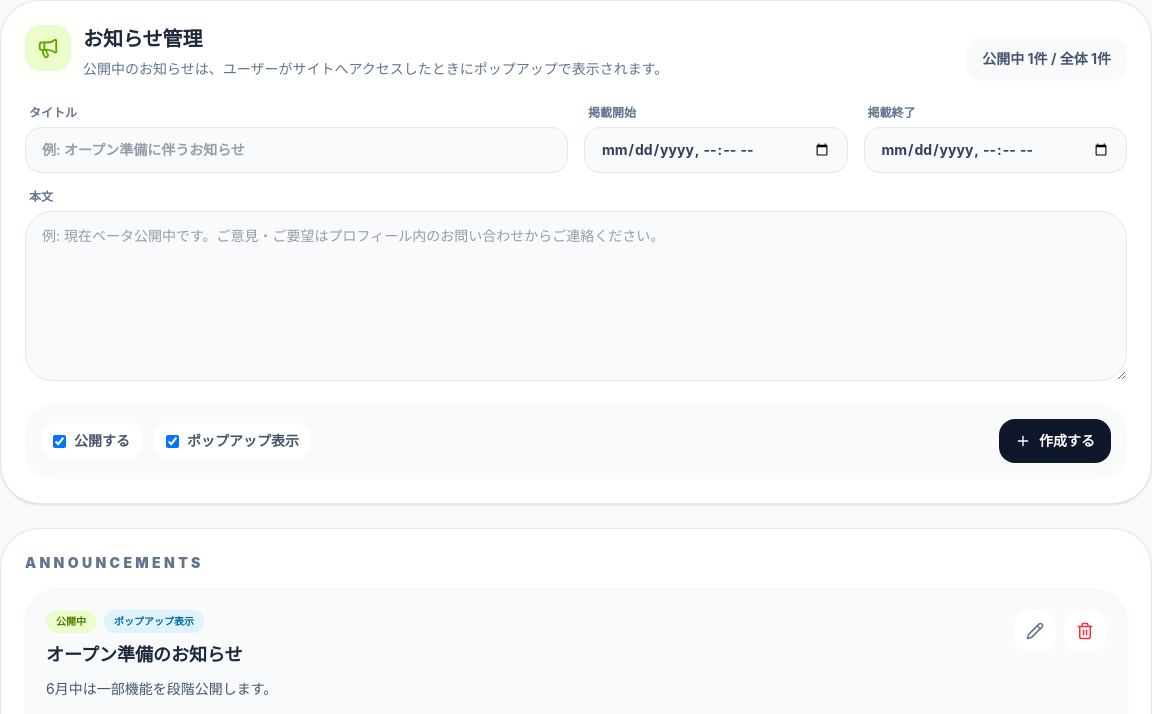
AdminAnnouncementsPage › opens delete confirmation before removing an announcement
Expected: the heading "オープン準備のお知らせ" is shown, [46, 644, 243, 665]
Click the button titled "削除する" at (1085, 631), box [1064, 610, 1106, 652]
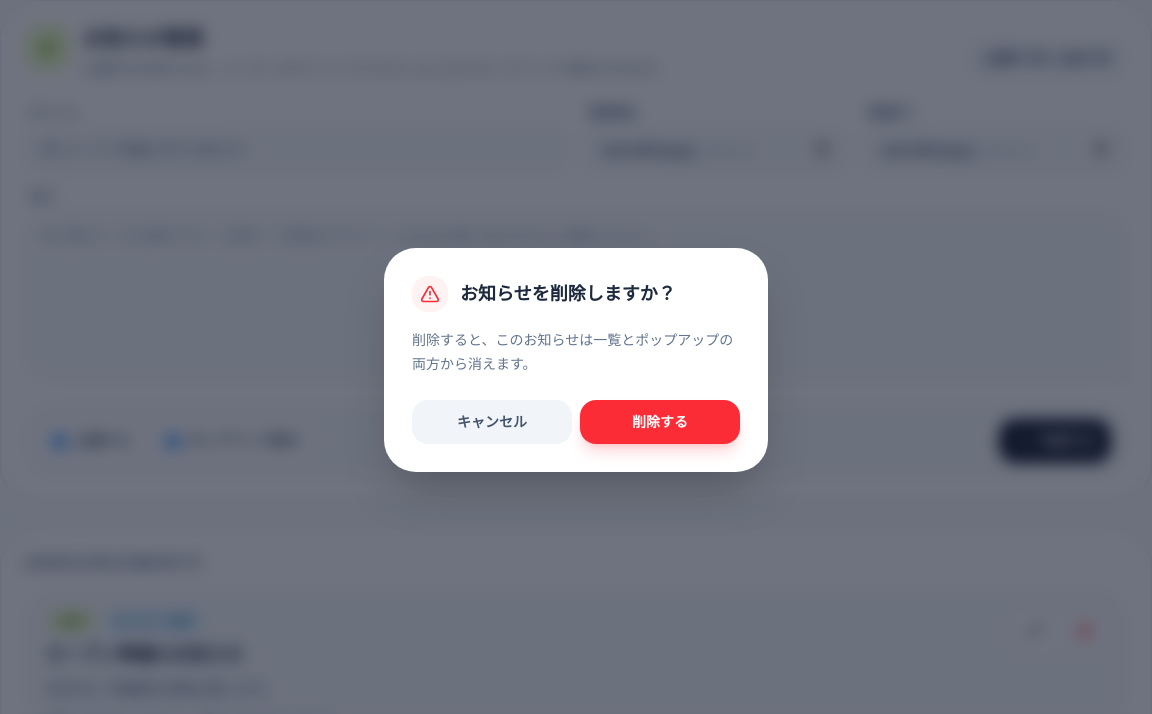
Result: the heading "お知らせを削除しますか？" is shown at [460, 280, 676, 308]
